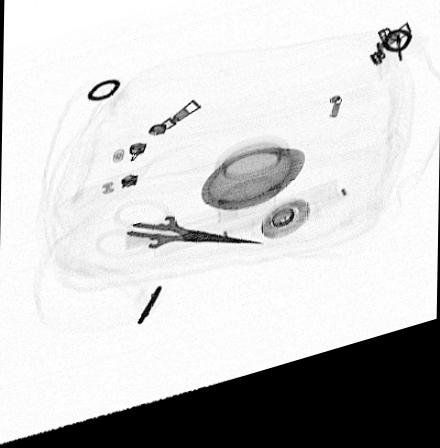Scissors: (90, 204, 267, 269)
